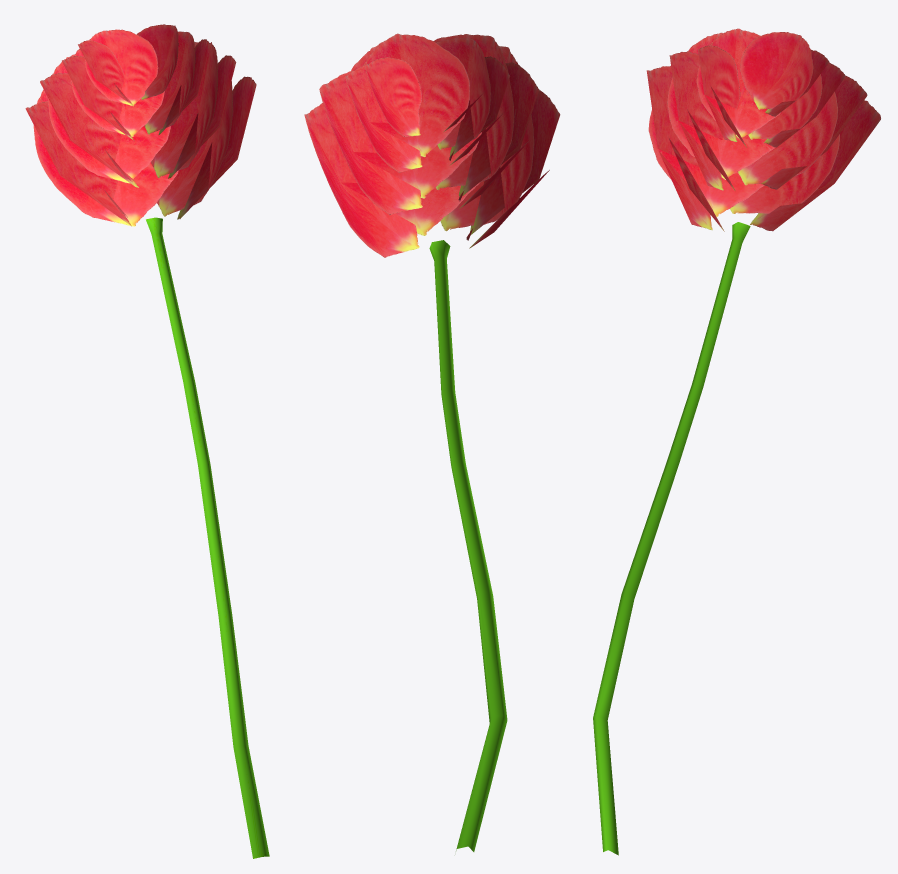
Rendered from FlowerRed.glb.
The picture shows the model from 3 angles, left to right: view 1: azimuth 30°, elevation 25°; view 2: azimuth 150°, elevation 25°; view 3: azimuth 270°, elevation 25°; orthographic projection. The views are drawn at different scales.
Visible parts, largest first — view 1: SM_Flower11; view 2: SM_Flower11; view 3: SM_Flower11.
Boxes of the visible parts, box(x1,y1,x2,y2) form: SM_Flower11: box(25, 24, 269, 858); SM_Flower11: box(304, 33, 560, 851); SM_Flower11: box(593, 28, 880, 855).
Size of the model in its own units: 0.0673 by 0.2391 by 0.0789.
Materials: 1 (1 with a texture image).
